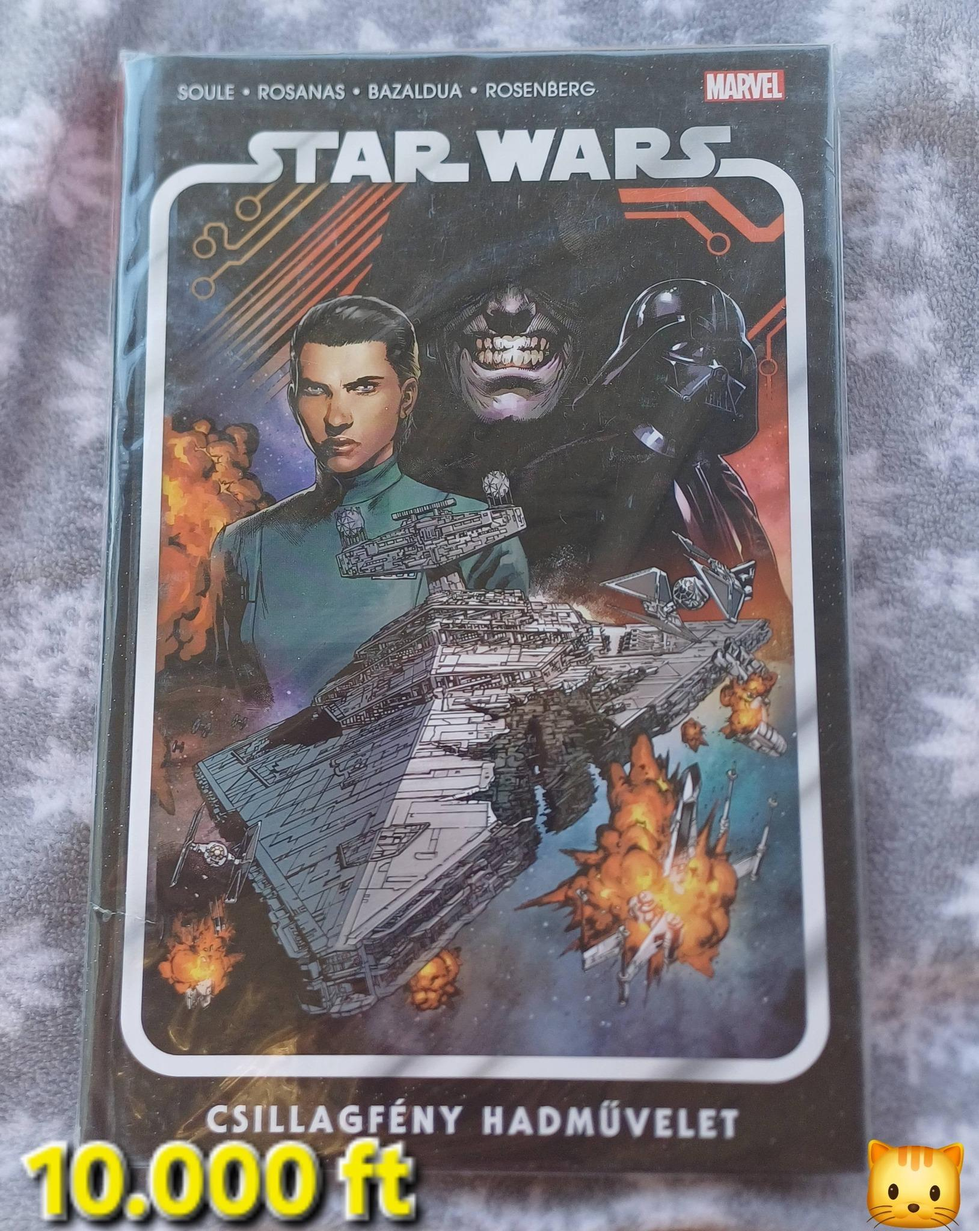comic: (67, 46, 863, 1181)
